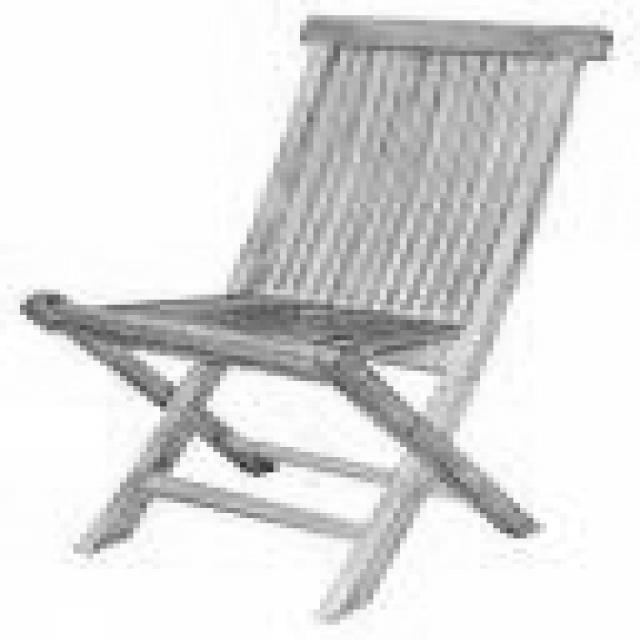chair: (18, 14, 612, 622)
